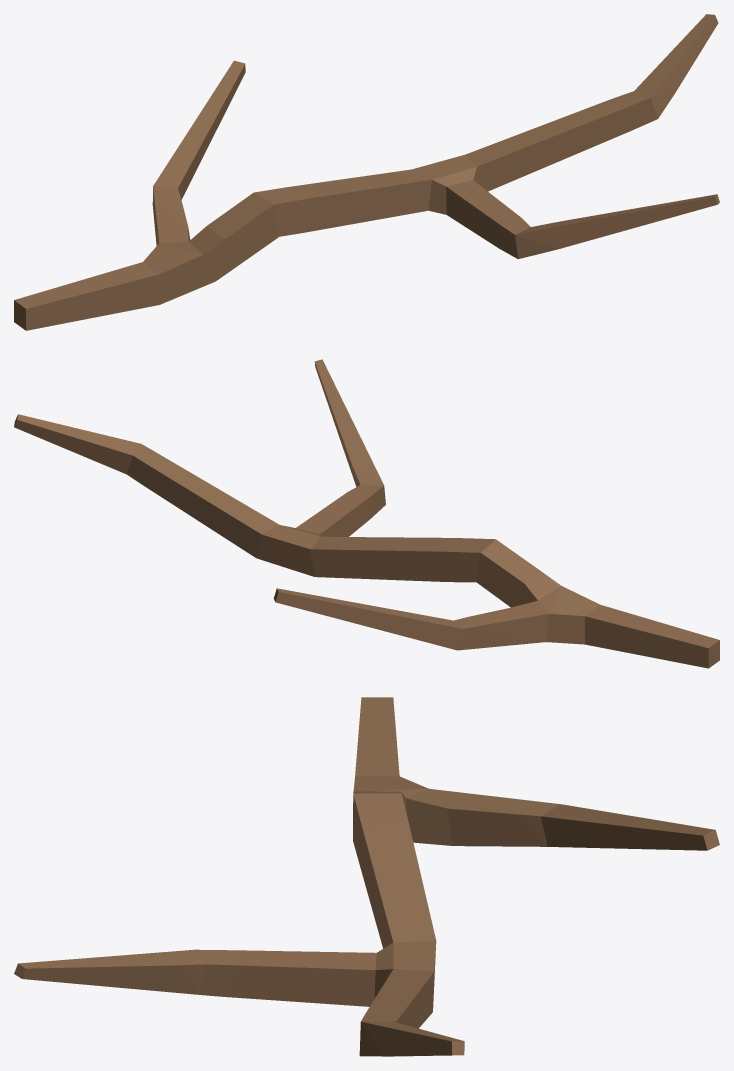
File: branch01.fbx
3 renders of one model, top to bottom at view 1: azimuth 30°, elevation 25°; view 2: azimuth 150°, elevation 25°; view 3: azimuth 270°, elevation 25°, orthographic. The views are drawn at different scales.
Visible parts, largest first — view 1: branch01; view 2: branch01; view 3: branch01.
Boxes of the visible parts, bbox=[...] form: branch01: bbox=[14, 14, 719, 330]; branch01: bbox=[14, 359, 719, 668]; branch01: bbox=[14, 697, 719, 1056].
Bounding box in the file's own units: 304 × 47.49 × 194.
